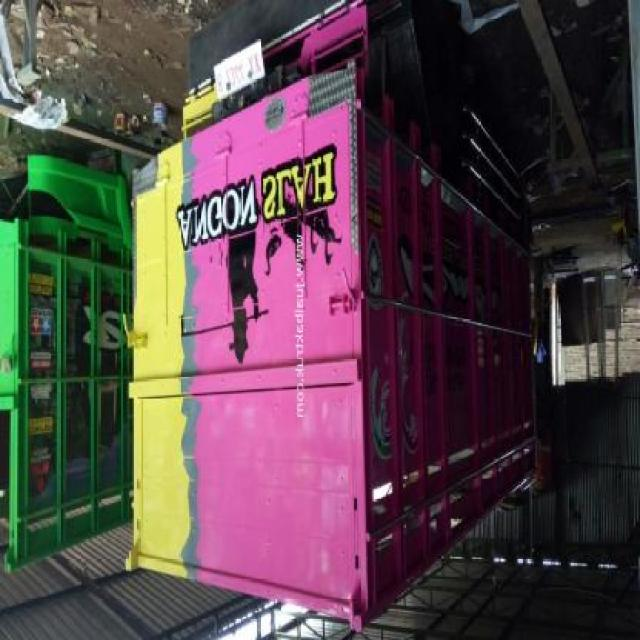truck: (124, 2, 541, 606)
